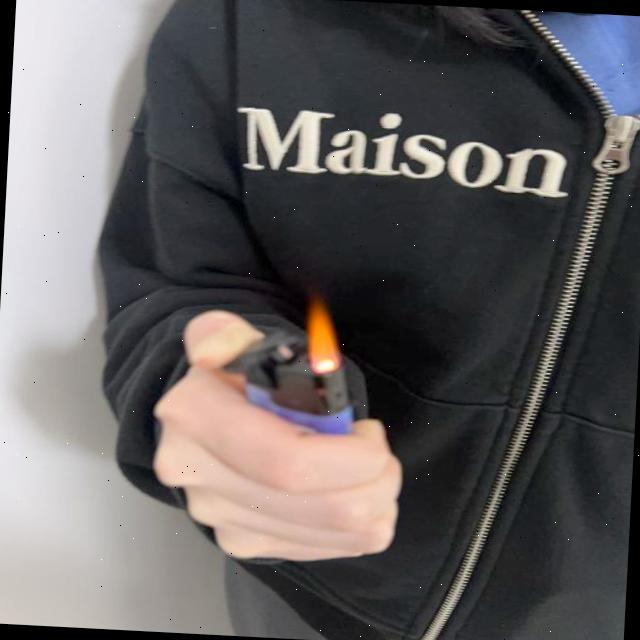fire: (305, 294, 342, 376)
